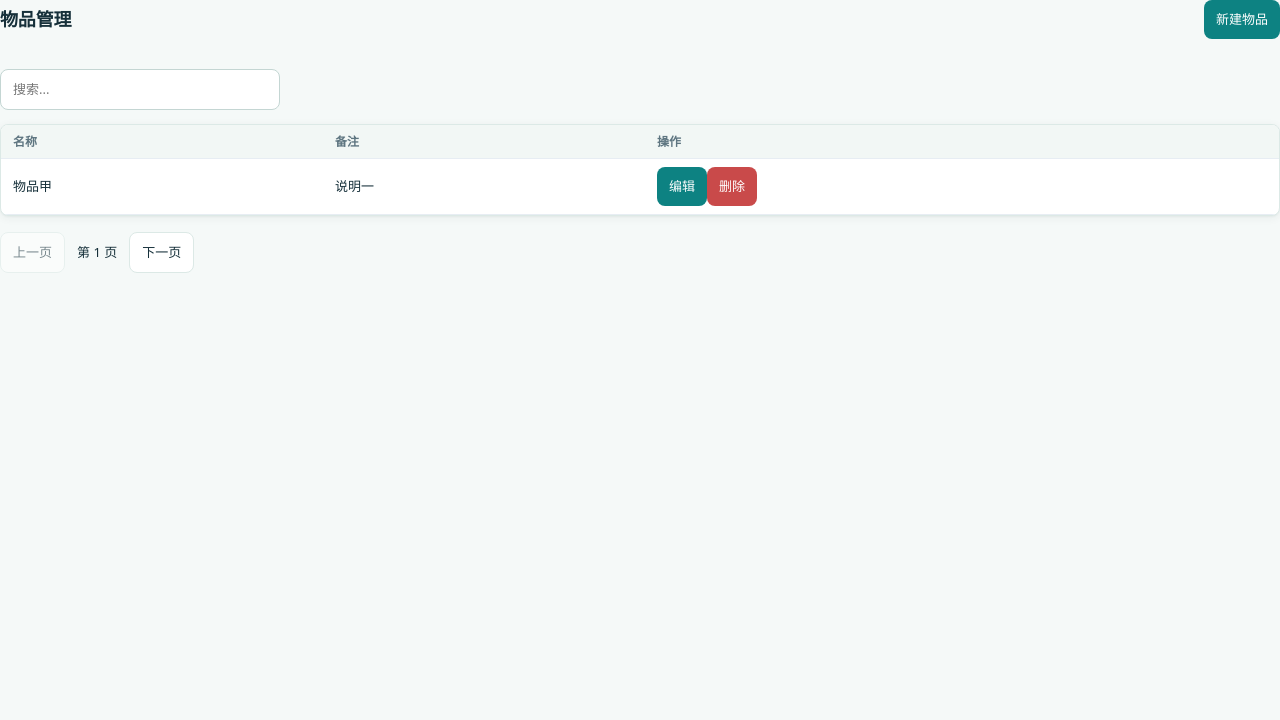
Scenario: CrudPage › delete: uses a custom deleteTitle when provided
Expected: the text "物品甲" is shown, [1,159,323,214]
Click the button "删除" at (732, 186), box [707,167,757,206]
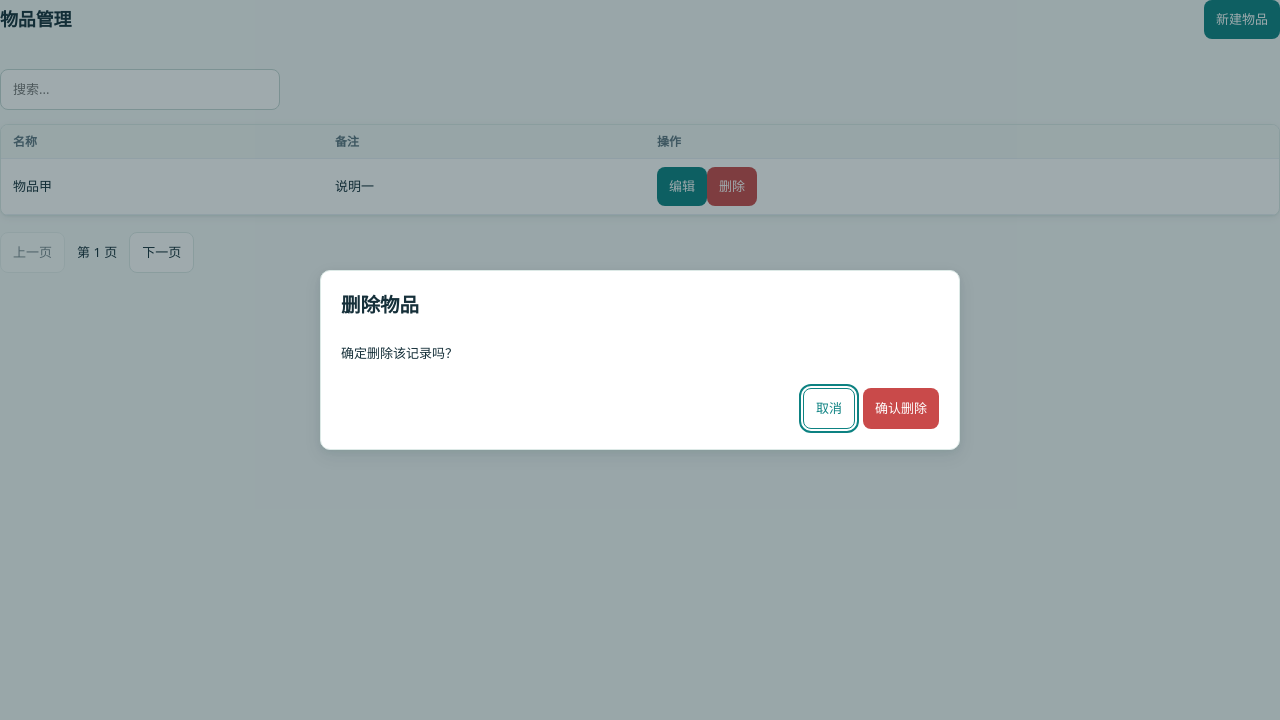
Now the heading "删除物品" is shown, box [341,291,419,318]
